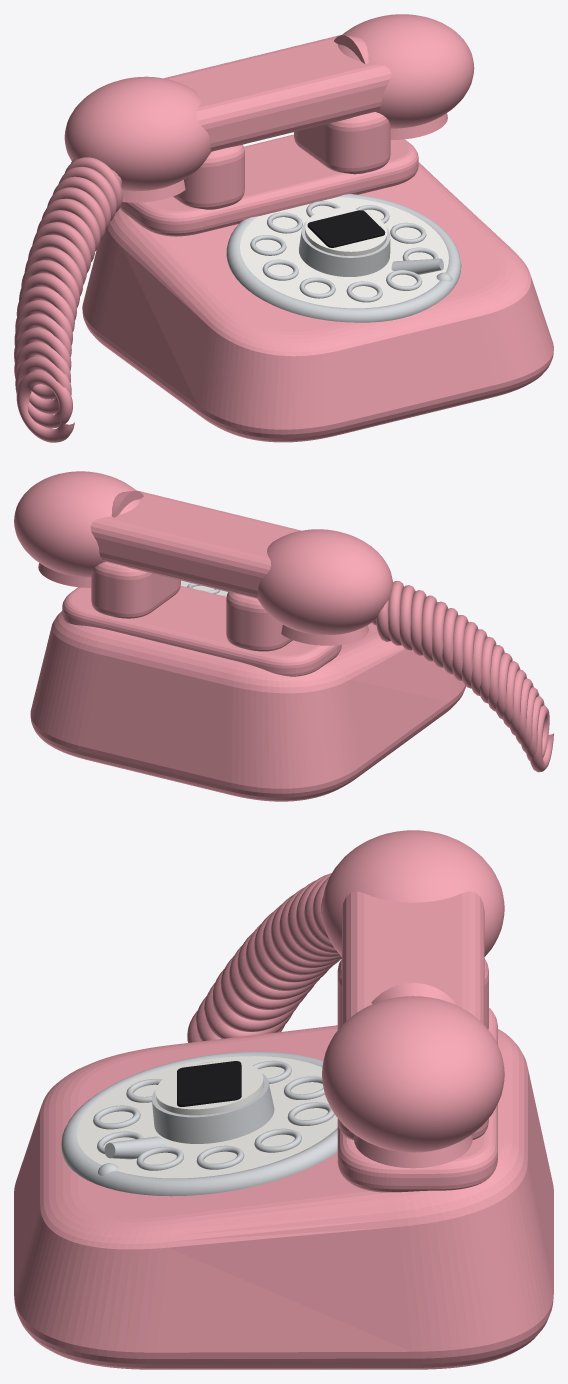
File: rotary-telephone.glb
3 renders of one model, top to bottom at view 1: azimuth 30°, elevation 25°; view 2: azimuth 150°, elevation 25°; view 3: azimuth 270°, elevation 25°, orthographic. The views are drawn at different scales.
Visible parts, largest first — view 1: body_shell, handset_cord, handset_bar, earpiece_shell, cradle_saddle, mouthpiece_shell, dial_number_plate, cradle_prong (×2), dial_bezel, dial_hub, dial_label_card, dial_hub_face (+3 smaller); view 2: body_shell, handset_bar, handset_cord, earpiece_shell, cradle_saddle, mouthpiece_shell, cradle_prong (×2), earpiece_cap, mouthpiece_cap, mouthpiece_neck; view 3: body_shell, mouthpiece_shell, handset_bar, handset_cord, earpiece_shell, dial_number_plate, dial_bezel, cradle_saddle, dial_hub, finger_hole_rim (×4), dial_label_card, dial_hub_face (+4 smaller).
Boxes of the visible parts, x1=… form: body_shell: x1=82, y1=162, x2=553, y2=442; handset_cord: x1=14, y1=157, x2=122, y2=442; handset_bar: x1=164, y1=35, x2=391, y2=151; earpiece_shell: x1=64, y1=76, x2=211, y2=191; cradle_saddle: x1=120, y1=134, x2=418, y2=236; mouthpiece_shell: x1=338, y1=14, x2=474, y2=128; dial_number_plate: x1=240, y1=197, x2=448, y2=308; cradle_prong (×2): x1=173, y1=112, x2=390, y2=209; dial_bezel: x1=226, y1=194, x2=461, y2=322; dial_hub: x1=299, y1=220, x2=390, y2=276; dial_label_card: x1=307, y1=210, x2=385, y2=247; dial_hub_face: x1=305, y1=208, x2=387, y2=255; body_shell: x1=30, y1=611, x2=465, y2=801; handset_bar: x1=90, y1=490, x2=300, y2=598; handset_cord: x1=372, y1=581, x2=553, y2=772; earpiece_shell: x1=257, y1=529, x2=392, y2=635; cradle_saddle: x1=62, y1=586, x2=341, y2=676; mouthpiece_shell: x1=14, y1=471, x2=139, y2=577; cradle_prong (×2): x1=91, y1=562, x2=292, y2=651; earpiece_cap: x1=281, y1=625, x2=368, y2=645; mouthpiece_cap: x1=38, y1=563, x2=91, y2=587; mouthpiece_neck: x1=111, y1=490, x2=143, y2=517; body_shell: x1=14, y1=1025, x2=553, y2=1369; mouthpiece_shell: x1=322, y1=996, x2=504, y2=1152; handset_bar: x1=342, y1=891, x2=484, y2=1025; handset_cord: x1=187, y1=873, x2=341, y2=1042; earpiece_shell: x1=322, y1=830, x2=504, y2=956; dial_number_plate: x1=77, y1=1056, x2=337, y2=1178; dial_bezel: x1=61, y1=1051, x2=337, y2=1196; cradle_saddle: x1=337, y1=1008, x2=497, y2=1192; dial_hub: x1=152, y1=1073, x2=274, y2=1143; finger_hole_rim (×4): x1=93, y1=1105, x2=301, y2=1170; dial_label_card: x1=177, y1=1061, x2=241, y2=1106; dial_hub_face: x1=155, y1=1061, x2=264, y2=1115.
Size of the model in its own units: 0.3467 by 0.1723 by 0.2422.
